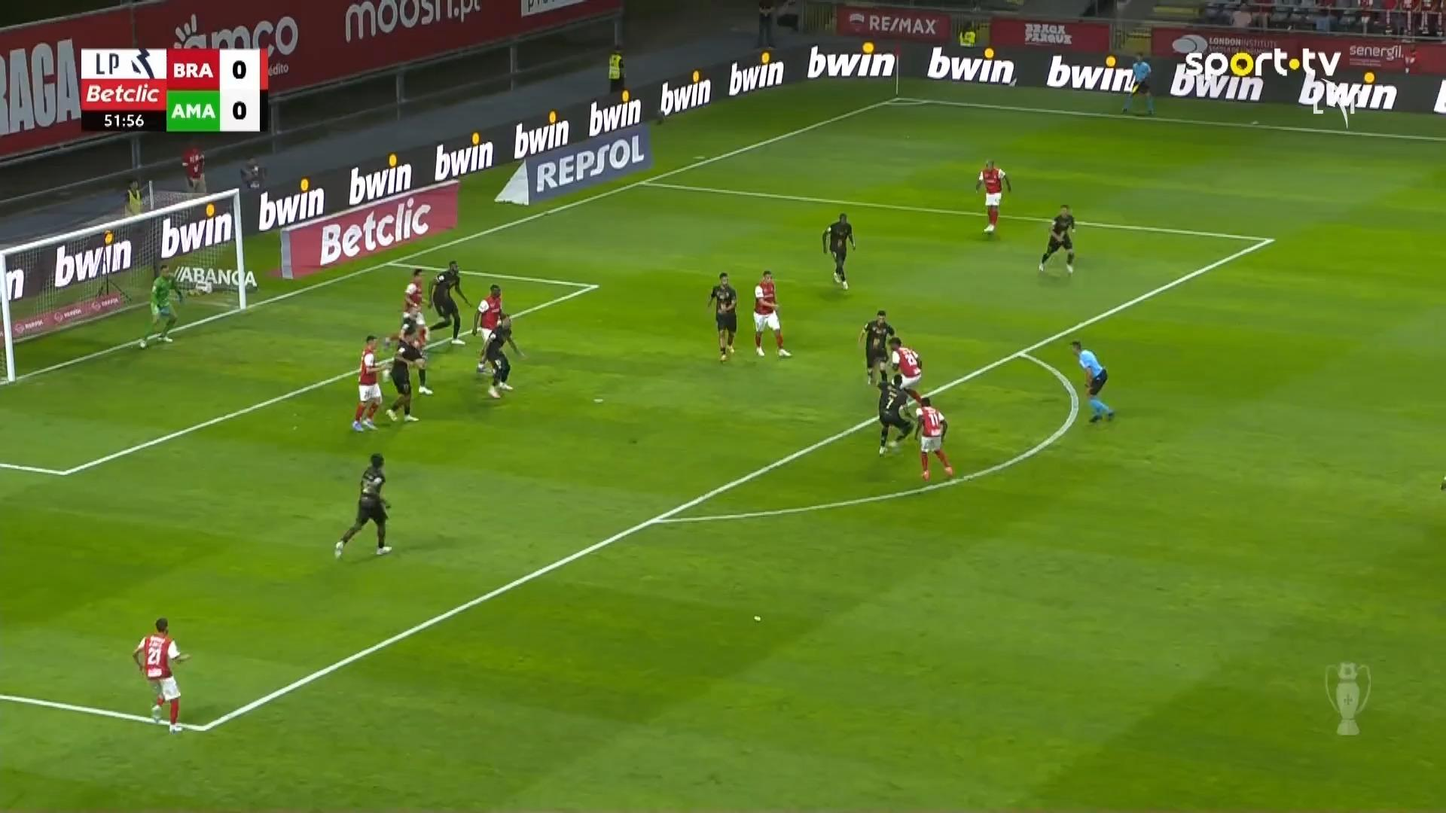goalkeeper: (138, 263, 185, 349)
player: (132, 617, 191, 732), (333, 452, 392, 559), (383, 321, 428, 422), (478, 314, 524, 398), (428, 259, 471, 345), (351, 333, 388, 431), (752, 269, 792, 358), (912, 394, 953, 480), (874, 376, 914, 455), (471, 283, 504, 373), (858, 309, 895, 385), (706, 271, 737, 361), (1037, 203, 1076, 274), (975, 158, 1011, 233), (887, 336, 923, 411), (822, 212, 856, 289), (401, 267, 430, 347)
referee: (1069, 339, 1114, 422), (1120, 51, 1155, 116)
